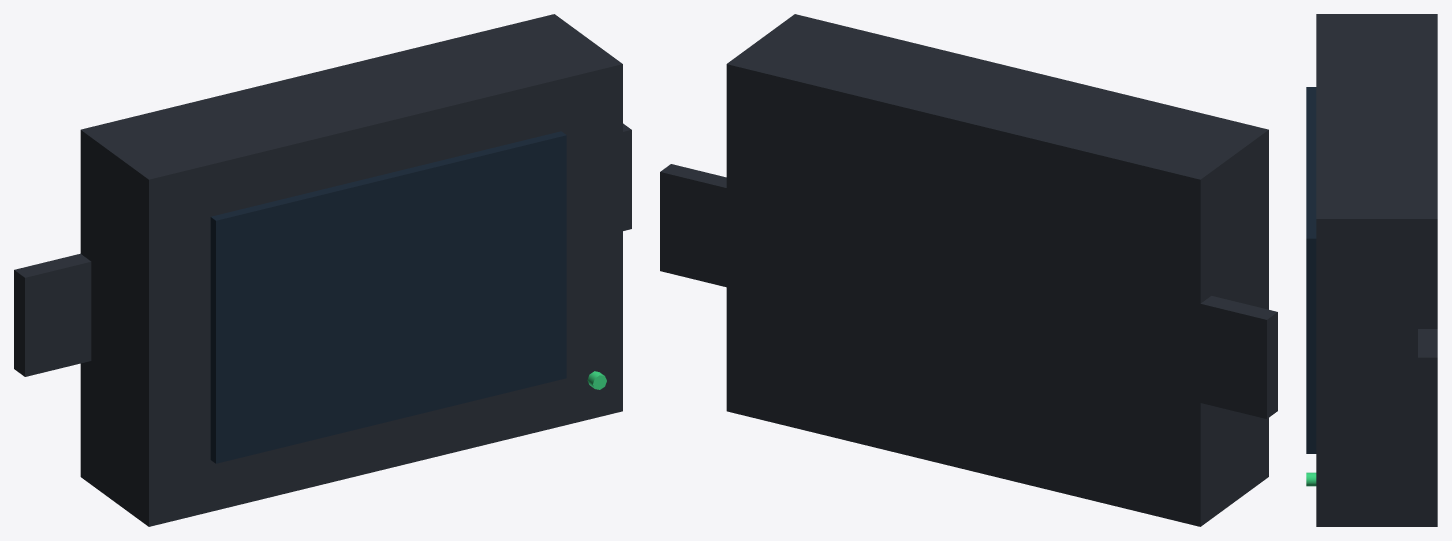
The model's file is panel-cyd-control.glb.
The picture shows the model from 3 angles, left to right: view 1: azimuth 30°, elevation 25°; view 2: azimuth 150°, elevation 25°; view 3: azimuth 270°, elevation 25°; orthographic projection. The views are drawn at different scales.
Parts seen in each view (by area): view 1: panel_enclosure, panel_screen, panel_ears; view 2: panel_enclosure, panel_ears; view 3: panel_enclosure, panel_screen, panel_ears.
Boxes of the visible parts, x1,y1,x2,y2 form: panel_enclosure: (80, 14, 622, 526); panel_screen: (210, 131, 566, 463); panel_ears: (14, 123, 631, 376); panel_enclosure: (726, 14, 1268, 526); panel_ears: (660, 164, 1277, 418); panel_enclosure: (1316, 14, 1437, 526); panel_screen: (1306, 87, 1316, 453); panel_ears: (1418, 329, 1437, 445).
Size of the model in its own units: 0.128 by 0.0735 by 0.027.
